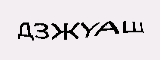А: (97, 18, 119, 39)
Д: (15, 19, 35, 43)
Ж: (50, 20, 80, 42)
З: (33, 20, 49, 44)
Ш: (121, 17, 147, 39)
Ү: (80, 19, 99, 40)
